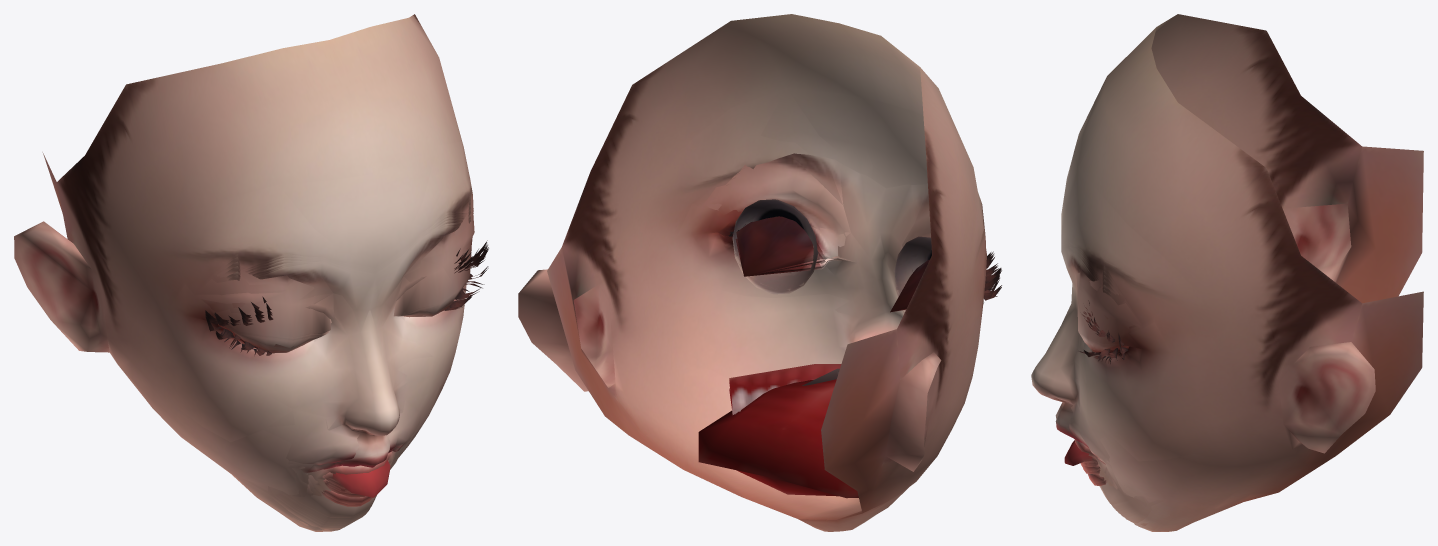
3 views of the same model, side by side, from view 1: azimuth 30°, elevation 25°; view 2: azimuth 150°, elevation 25°; view 3: azimuth 270°, elevation 25° (orthographic). The views are drawn at different scales.
Parts seen in each view (by area): view 1: face004_duzui, face004_jingya, face004_nanguo, face004_biyan, face004_yanse, face004_haixiu, face004_qinzui, face004_huaixiao, face004_tushetou, face004_weixiao, face004_kouxing002; view 2: face004_biyan, face004_duzui, face004_haixiu, face004_jingya, face004_huaixiao, face004_kouxing001, face004_tushetou, face004_qinzui, face004_yanse; view 3: face004_nanguo, face004_haixiu, face004_yanse, face004_jingya, face004_duzui, face004_qinzui, face004_biyan, face004_huaixiao, face004_tushetou, face004_kouxing002.
Boxes of the visible parts, bbox=[...] form: face004_duzui: bbox=[14, 27, 488, 517]; face004_jingya: bbox=[149, 146, 486, 531]; face004_nanguo: bbox=[175, 14, 488, 520]; face004_biyan: bbox=[15, 152, 488, 521]; face004_yanse: bbox=[171, 142, 473, 522]; face004_haixiu: bbox=[174, 146, 488, 522]; face004_qinzui: bbox=[202, 205, 488, 529]; face004_huaixiao: bbox=[170, 194, 486, 523]; face004_tushetou: bbox=[170, 198, 487, 530]; face004_weixiao: bbox=[148, 185, 486, 524]; face004_kouxing002: bbox=[160, 313, 391, 531]; face004_biyan: bbox=[518, 14, 1001, 513]; face004_duzui: bbox=[547, 67, 1001, 519]; face004_haixiu: bbox=[518, 14, 1001, 520]; face004_jingya: bbox=[659, 15, 999, 531]; face004_huaixiao: bbox=[677, 88, 998, 479]; face004_kouxing001: bbox=[705, 16, 1001, 497]; face004_tushetou: bbox=[707, 93, 1000, 520]; face004_qinzui: bbox=[724, 233, 1001, 411]; face004_yanse: bbox=[694, 153, 1001, 403]; face004_nanguo: bbox=[1031, 69, 1423, 507]; face004_haixiu: bbox=[1061, 14, 1423, 511]; face004_yanse: bbox=[1061, 188, 1247, 512]; face004_jingya: bbox=[1061, 188, 1247, 531]; face004_duzui: bbox=[1061, 27, 1350, 504]; face004_qinzui: bbox=[1044, 241, 1250, 515]; face004_biyan: bbox=[1075, 270, 1140, 361]; face004_huaixiao: bbox=[1060, 245, 1141, 464]; face004_tushetou: bbox=[1061, 244, 1249, 525]; face004_kouxing002: bbox=[1079, 440, 1249, 530].
Size of the model in its own units: 0.1868 by 0.1619 by 0.2189.
